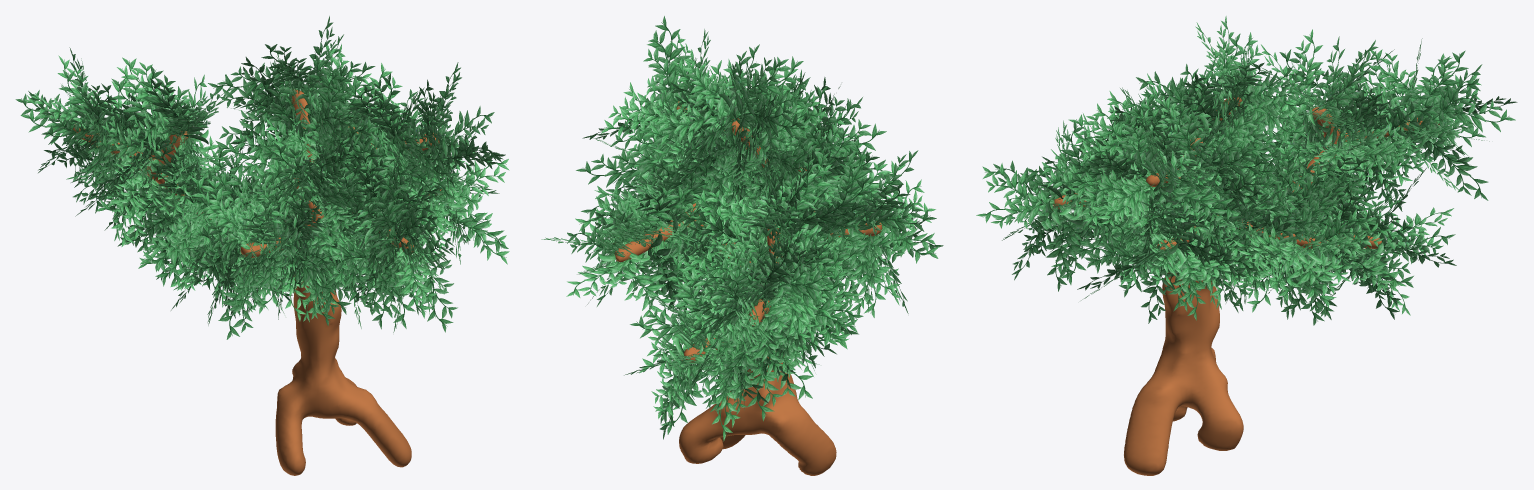
The model's file is Árbol.fbx.
3 views of the same model, side by side, from view 1: azimuth 30°, elevation 25°; view 2: azimuth 150°, elevation 25°; view 3: azimuth 270°, elevation 25° (orthographic). The views are drawn at different scales.
Parts seen in each view (by area): view 1: Tronco, Tronco|Foto Ramas|Dupli|283, Tronco|Foto Ramas|Dupli|301, Tronco|Foto Ramas|Dupli|792, Tronco|Foto Ramas|Dupli|266, Tronco|Foto Ramas|Dupli|891, Tronco|Foto Ramas|Dupli|720, Tronco|Foto Ramas|Dupli|899, Tronco|Foto Ramas|Dupli|290, Tronco|Foto Ramas|Dupli|480, Tronco|Foto Ramas|Dupli|21, Tronco|Foto Ramas|Dupli|278 (+61 smaller); view 2: Tronco, Tronco|Foto Ramas|Dupli|553, Tronco|Foto Ramas|Dupli|478, Tronco|Foto Ramas|Dupli|480, Tronco|Foto Ramas|Dupli|13, Tronco|Foto Ramas|Dupli|21, Tronco|Foto Ramas|Dupli|474, Tronco|Foto Ramas|Dupli|559, Tronco|Foto Ramas|Dupli|884, Tronco|Foto Ramas|Dupli|281, Tronco|Foto Ramas|Dupli|226, Tronco|Foto Ramas|Dupli|299 (+78 smaller); view 3: Tronco, Tronco|Foto Ramas|Dupli|803, Tronco|Foto Ramas|Dupli|890, Tronco|Foto Ramas|Dupli|488, Tronco|Foto Ramas|Dupli|912, Tronco|Foto Ramas|Dupli|791, Tronco|Foto Ramas|Dupli|17, Tronco|Foto Ramas|Dupli|133, Tronco|Foto Ramas|Dupli|805, Tronco|Foto Ramas|Dupli|904, Tronco|Foto Ramas|Dupli|638, Tronco|Foto Ramas|Dupli|5 (+50 smaller).
Boxes of the visible parts, left/top/right/bottom form: Tronco: left=72, top=89, right=441, bottom=475; Tronco|Foto Ramas|Dupli|283: left=218, top=255, right=279, bottom=339; Tronco|Foto Ramas|Dupli|301: left=273, top=222, right=335, bottom=296; Tronco|Foto Ramas|Dupli|792: left=413, top=234, right=457, bottom=332; Tronco|Foto Ramas|Dupli|266: left=215, top=87, right=292, bottom=158; Tronco|Foto Ramas|Dupli|891: left=431, top=106, right=494, bottom=158; Tronco|Foto Ramas|Dupli|720: left=367, top=178, right=408, bottom=263; Tronco|Foto Ramas|Dupli|899: left=432, top=206, right=508, bottom=253; Tronco|Foto Ramas|Dupli|290: left=200, top=191, right=265, bottom=249; Tronco|Foto Ramas|Dupli|480: left=217, top=59, right=312, bottom=100; Tronco|Foto Ramas|Dupli|21: left=41, top=111, right=120, bottom=147; Tronco|Foto Ramas|Dupli|278: left=191, top=228, right=239, bottom=289; Tronco: left=614, top=101, right=882, bottom=475; Tronco|Foto Ramas|Dupli|553: left=598, top=253, right=674, bottom=320; Tronco|Foto Ramas|Dupli|478: left=644, top=95, right=742, bottom=144; Tronco|Foto Ramas|Dupli|480: left=719, top=88, right=804, bottom=140; Tronco|Foto Ramas|Dupli|13: left=748, top=286, right=790, bottom=389; Tronco|Foto Ramas|Dupli|21: left=752, top=259, right=846, bottom=308; Tronco|Foto Ramas|Dupli|474: left=730, top=103, right=823, bottom=165; Tronco|Foto Ramas|Dupli|559: left=602, top=186, right=691, bottom=243; Tronco|Foto Ramas|Dupli|884: left=643, top=33, right=688, bottom=126; Tronco|Foto Ramas|Dupli|281: left=843, top=228, right=887, bottom=317; Tronco|Foto Ramas|Dupli|226: left=651, top=337, right=690, bottom=418; Tronco|Foto Ramas|Dupli|299: left=837, top=226, right=918, bottom=267; Tronco: left=1053, top=97, right=1439, bottom=475; Tronco|Foto Ramas|Dupli|803: left=982, top=163, right=1050, bottom=228; Tronco|Foto Ramas|Dupli|890: left=1146, top=181, right=1240, bottom=222; Tronco|Foto Ramas|Dupli|488: left=1230, top=75, right=1306, bottom=142; Tronco|Foto Ramas|Dupli|912: left=1071, top=169, right=1162, bottom=213; Tronco|Foto Ramas|Dupli|791: left=1043, top=198, right=1083, bottom=291; Tronco|Foto Ramas|Dupli|17: left=1403, top=50, right=1468, bottom=118; Tronco|Foto Ramas|Dupli|133: left=1285, top=29, right=1325, bottom=119; Tronco|Foto Ramas|Dupli|805: left=976, top=195, right=1079, bottom=229; Tronco|Foto Ramas|Dupli|904: left=1072, top=237, right=1170, bottom=277; Tronco|Foto Ramas|Dupli|638: left=1225, top=236, right=1322, bottom=267; Tronco|Foto Ramas|Dupli|5: left=1416, top=137, right=1488, bottom=200.
Size of the model in its own units: 845 by 640 by 708.
